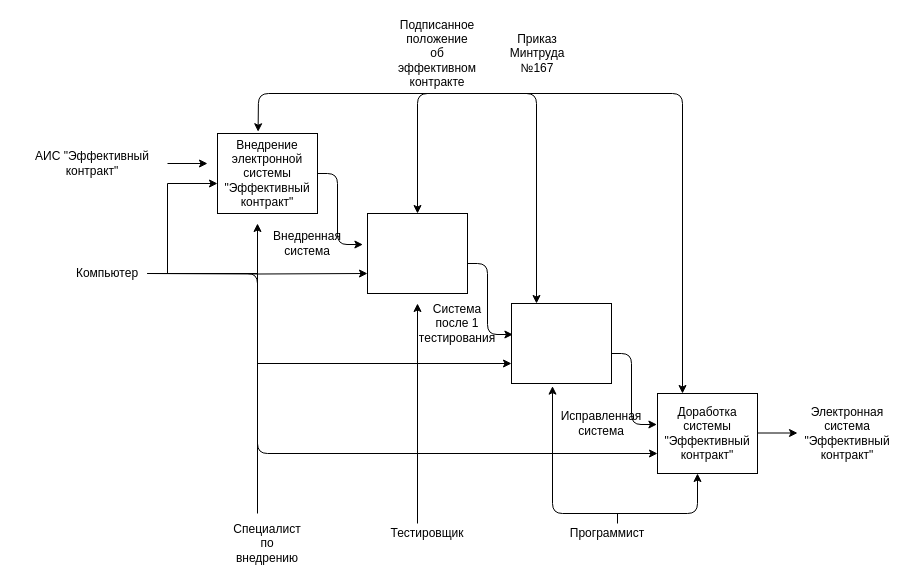
Image size: 907x582. Some labels were removed from this diagram. The shapes that lost their labels are listed below. From the top down, each one's centre as x and y in pixels, then its label:
the point at 417,253: Тестирование электронной системы "Эффективный контракт"
the point at 561,343: Исправление ошибок системы "Эффективный контракт"
